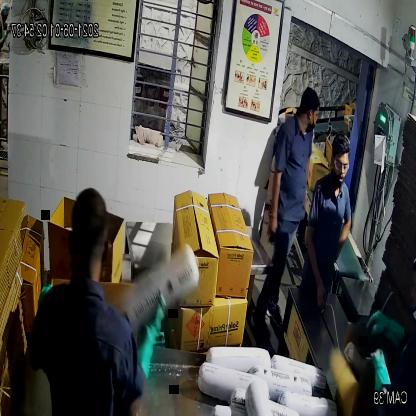goggles: (328, 152, 354, 178)
